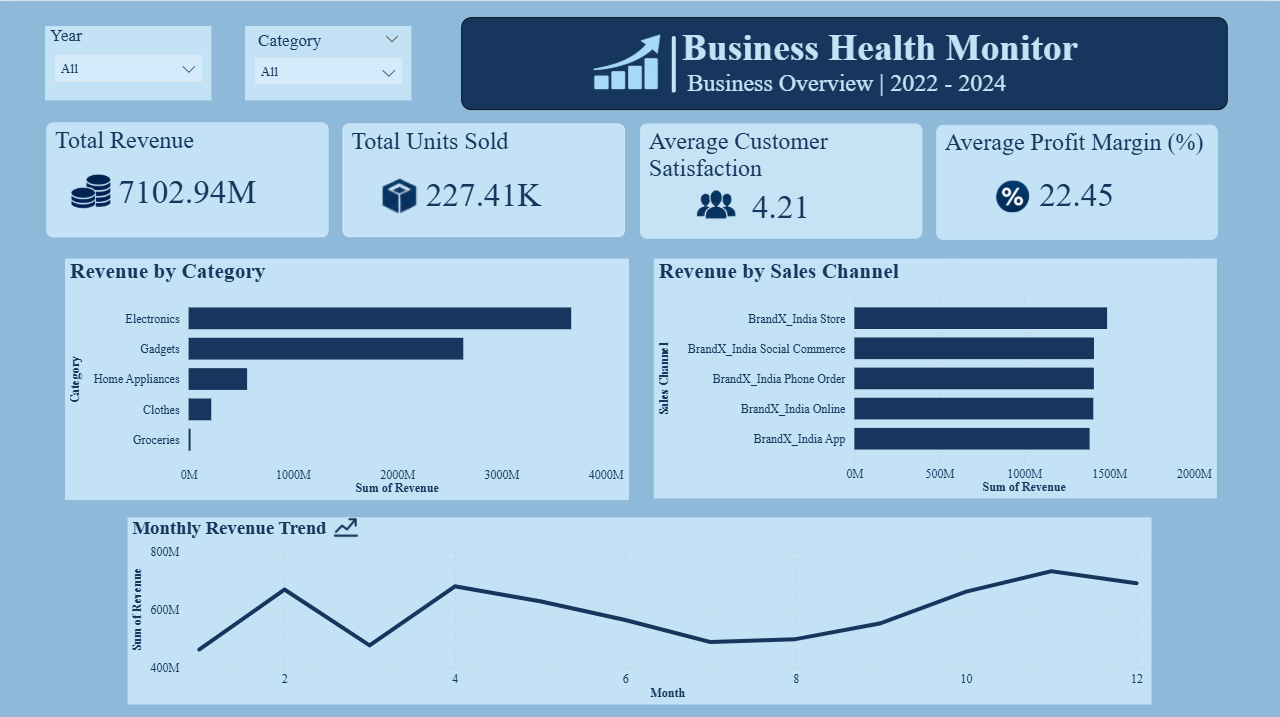

The page's visual inventory and layout, read from the dashboard file:
{"tool":"powerbi","page":{"name":"Business Overview","canvas":[1280,720],"ordinal":0},"visuals":[{"type":"card","title":"Total Units Sold","fields":{"Values":["Sum(BrandX_India_Dataset_Analysis.Units_Sold)"]},"box":[342.5,122.5,282.5,113.8],"z":0},{"type":"card","title":"Average Profit Margin (%)","fields":{"Values":["Avg(BrandX_India_Dataset_Analysis.Profit_Margin)"]},"box":[936.2,123.8,281.2,115],"z":1000},{"type":"card","title":"Average Customer Satisfaction","fields":{"Values":["Avg(BrandX_India_Dataset_Analysis.Customer_Satisfaction)"]},"box":[640,122.5,282.5,115],"z":2000},{"type":"card","title":"Total Revenue","fields":{"Values":["Sum(BrandX_India_Dataset_Analysis.Total Revenue)"]},"box":[46.2,121.2,282.5,115],"z":3000},{"type":"clusteredBarChart","title":"Revenue by Category","fields":{"Category":["BrandX_India_Dataset_Analysis.Category"],"Y":["Sum(BrandX_India_Dataset_Analysis.Total Revenue)"]},"box":[65,257.5,563.8,241.2],"z":4000},{"type":"clusteredBarChart","title":"Revenue by Sales Channel","fields":{"Category":["BrandX_India_Dataset_Analysis.Sales_Channel"],"Y":["Sum(BrandX_India_Dataset_Analysis.Total Revenue)"]},"box":[653.9,257,563.4,240.1],"z":5000},{"type":"lineChart","title":"Monthly Revenue Trend","fields":{"Category":["BrandX_India_Dataset_Analysis.Month"],"Y":["Sum(BrandX_India_Dataset_Analysis.Total Revenue)"]},"box":[127.9,516.4,1024.3,187],"z":6000},{"type":"slicer","title":"Year","fields":{"Values":["BrandX_India_Dataset_Analysis.Year"]},"box":[44.6,25.3,166.5,74.8],"z":7000},{"type":"slicer","fields":{"Values":["BrandX_India_Dataset_Analysis.Category"]},"box":[244.9,25.3,166.5,74.8],"z":8000},{"type":"textbox","box":[460.9,15.7,766.1,92.9],"z":9000},{"type":"image","box":[55,142.5,72.5,96.2],"z":10000},{"type":"image","box":[295.6,506.7,101,39],"z":11000},{"type":"image","box":[567,1.2,117,121.9],"z":12000},{"type":"shape","box":[640.6,35,67.6,56.7],"z":13000},{"type":"image","box":[981.2,163.8,63.8,63.8],"z":14000},{"type":"image","box":[360,163.8,72.5,72.5],"z":15000},{"type":"image","box":[685,171.2,67.5,67.5],"z":16000}]}

Visuals, with their boxes in screenshot pixels (x1, y1, x2, y2), scaled from the page's 1280x720 canvas onto the 1280x717 screenshot:
"Total Units Sold" card: [342, 122, 625, 235]
"Average Profit Margin (%)" card: [936, 123, 1217, 238]
"Average Customer Satisfaction" card: [640, 122, 922, 237]
"Total Revenue" card: [46, 121, 329, 235]
"Revenue by Category" clusteredBarChart: [65, 256, 629, 497]
"Revenue by Sales Channel" clusteredBarChart: [654, 256, 1217, 495]
"Monthly Revenue Trend" lineChart: [128, 514, 1152, 700]
"Year" slicer: [45, 25, 211, 100]
slicer - BrandX_India_Dataset_Analysis.Category: [245, 25, 411, 100]
textbox: [461, 16, 1227, 108]
image: [55, 142, 128, 238]
image: [296, 505, 397, 543]
image: [567, 1, 684, 123]
shape: [641, 35, 708, 91]
image: [981, 163, 1045, 227]
image: [360, 163, 432, 235]
image: [685, 170, 752, 238]
